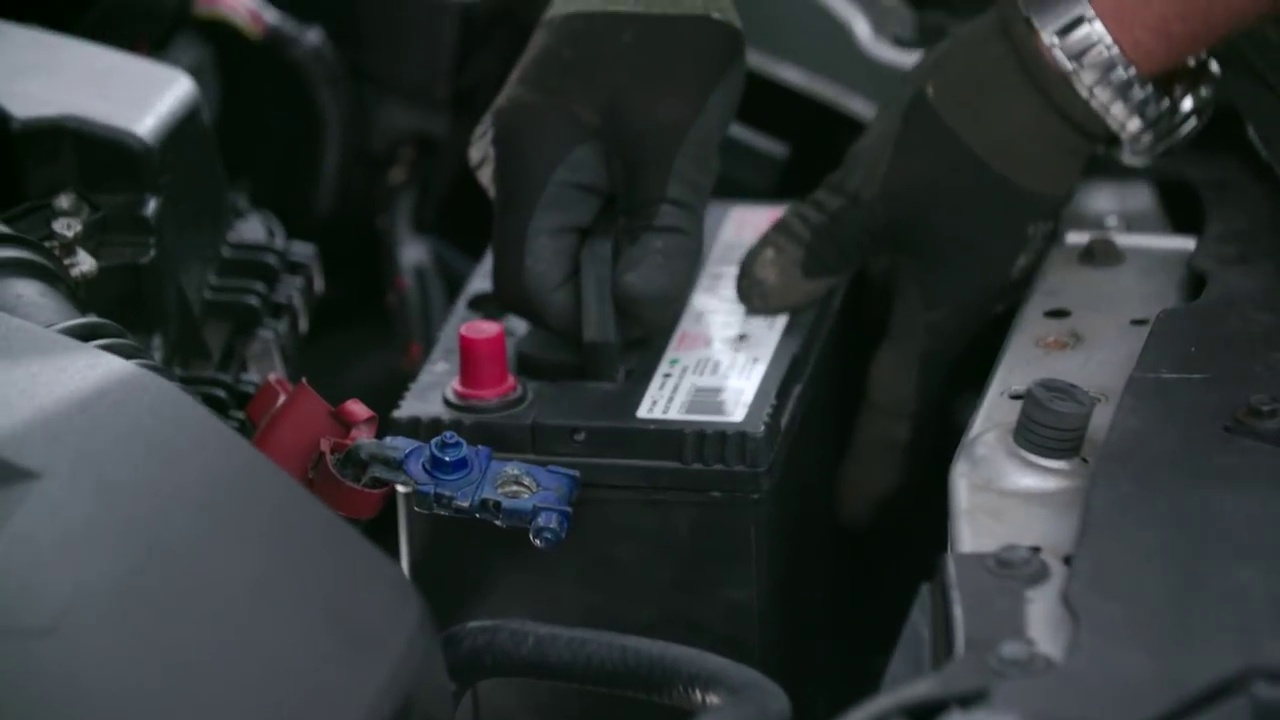battery: (397, 186, 839, 470)
